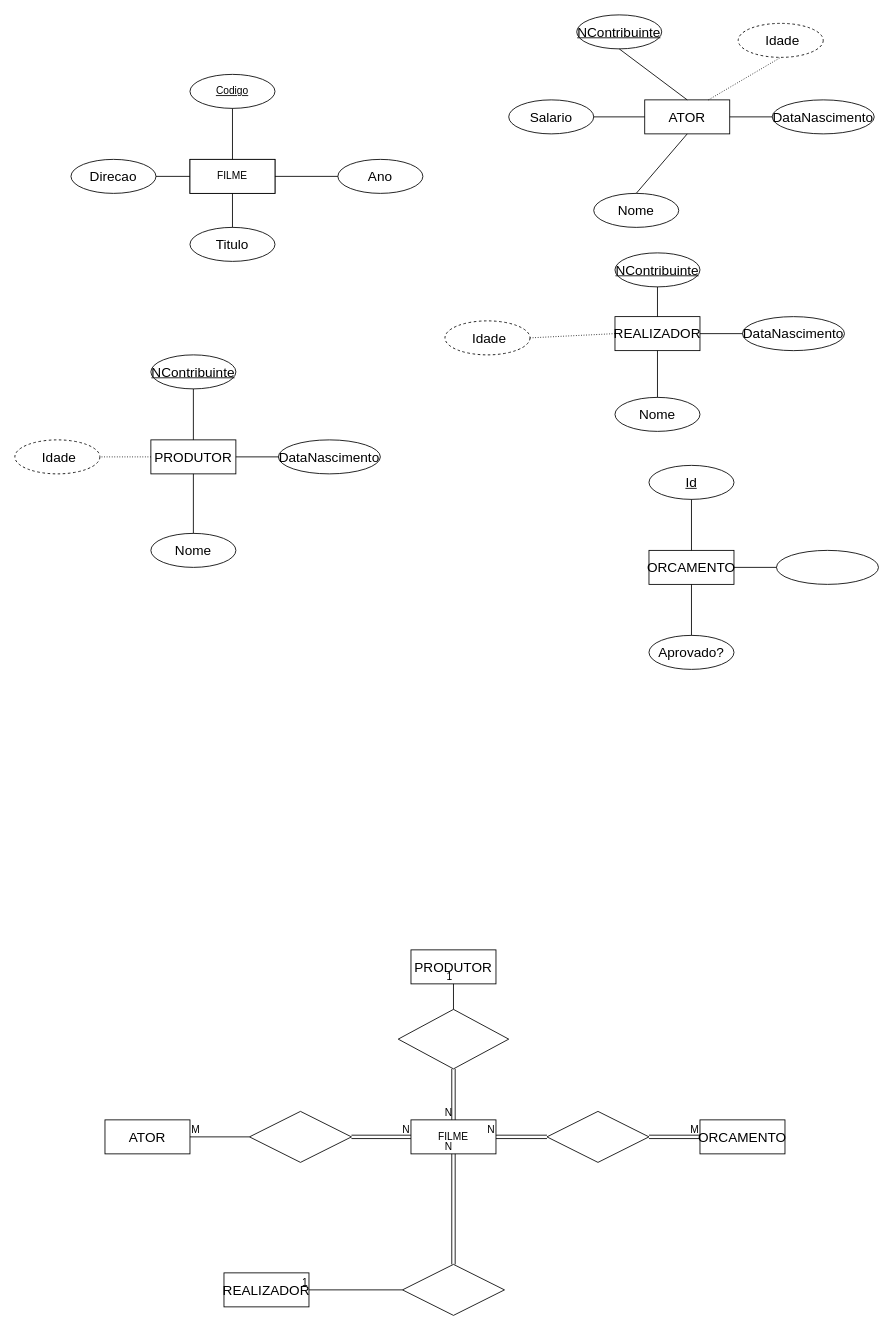
The diagram is 893 pixels wide and 1330 high, and some of its shapes have lost their labels. The shapes that lost their labels are listed below. From the top down, each one's centre as x and y in pixels, then its label:
(827,567): Valor
(453,1039): PRODUTOR_DE
(300,1136): ENTRA_EM
(597,1136): POSSUEM
(453,1289): REALIZA
